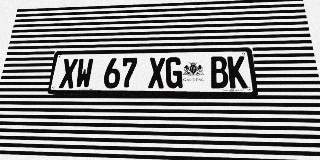6: (103, 58, 121, 88)
7: (120, 58, 138, 88)
B: (210, 56, 229, 88)
G: (166, 57, 183, 88)
K: (227, 56, 248, 88)
W: (75, 58, 94, 88)
X: (59, 58, 78, 88), (148, 57, 165, 88)
